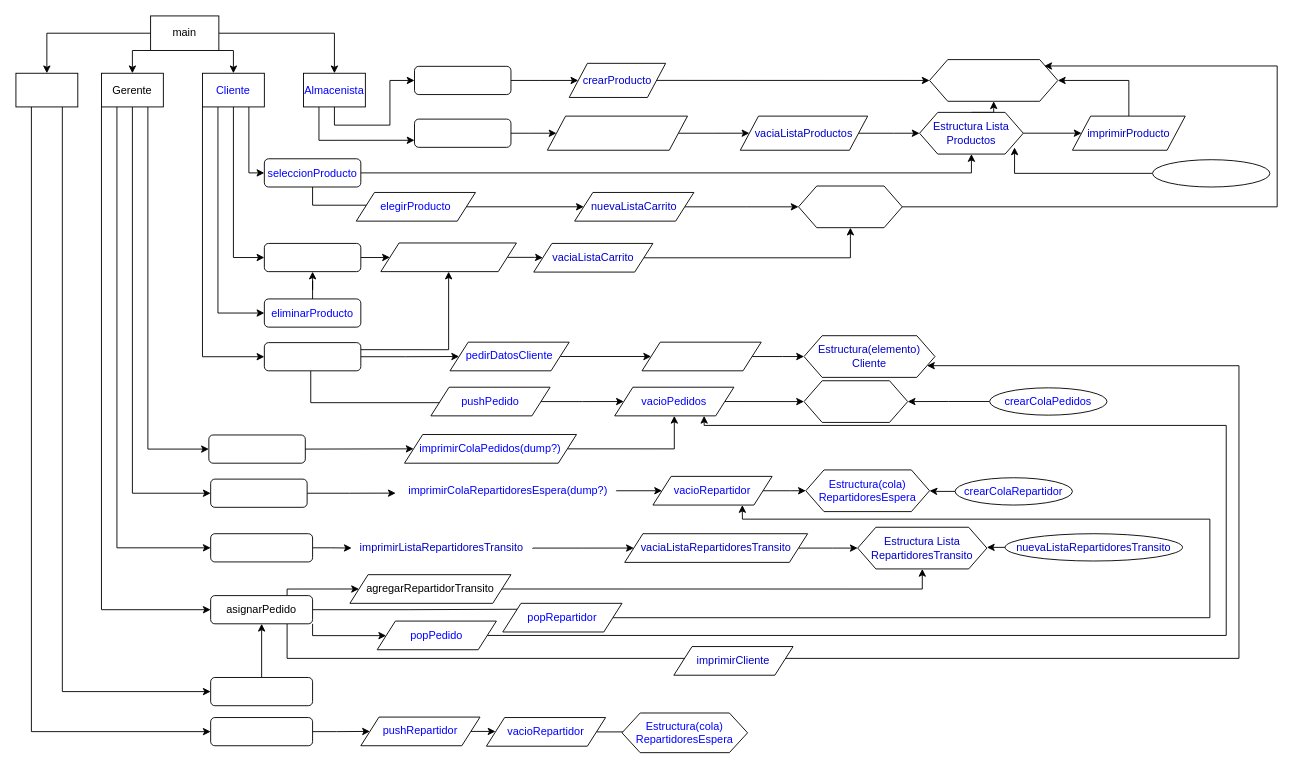
The diagram is 1300 pixels wide and 769 high, and some of its shapes have lost their labels. Here are the shapes that lost their labels. From the top down, the centre of each, then its label:
At point (46, 89): "Repartidor".
At point (462, 80): "agregarProducto".
At point (993, 80): "Estructura(elemento) Producto".
At point (462, 132): "listaProductos".
At point (617, 132): "imprimirListaProductos".
At point (1211, 173): "crearListaProductos".
At point (850, 206): "Estructura Lista Carrito".
At point (312, 257): "revisarCarrito".
At point (448, 257): "imprimirListaCarrito".
At point (312, 356): "realizarPedido".
At point (701, 356): "nuevoCliente".
At point (855, 401): "Estructura(cola) Pedidos".
At point (256, 448): "verPedidos".
At point (258, 492): "repartidoresEspera".
At point (261, 547): "repartidoresTransito".
At point (261, 691): "pedidoAsignado".
At point (261, 731): "entregaPedido".
